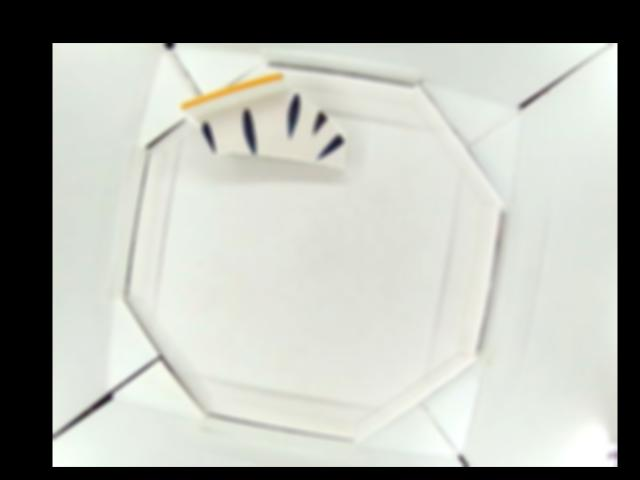China: (181, 70, 345, 172)
